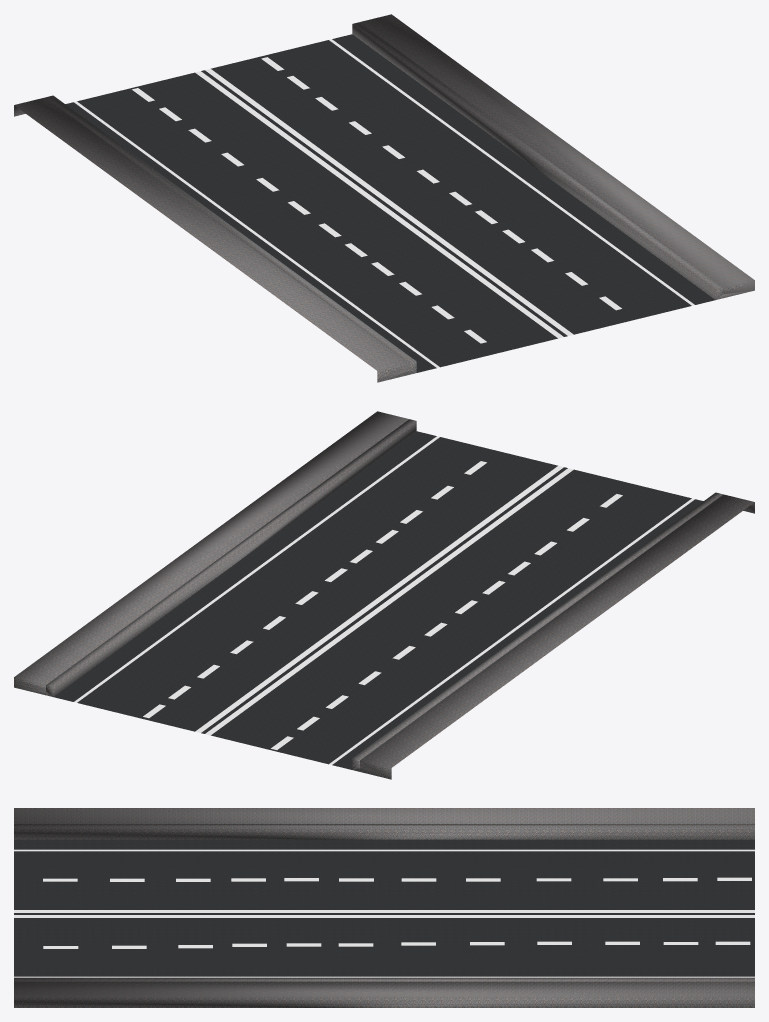
File: road3.dae
3 views of the same model, one above another, from view 1: azimuth 30°, elevation 25°; view 2: azimuth 150°, elevation 25°; view 3: azimuth 270°, elevation 25° (orthographic).
Visible parts, largest first — view 1: Asphalt_New, Concrete_Aggregate_Sm, Color_E02; view 2: Asphalt_New, Concrete_Aggregate_Sm, Color_E02; view 3: Asphalt_New, Concrete_Aggregate_Sm, Color_E02.
Part boxes in pixels (<box>): Asphalt_New: <box>65,34,715,372</box>; Concrete_Aggregate_Sm: <box>14,14,754,382</box>; Color_E02: <box>74,39,694,367</box>; Asphalt_New: <box>53,431,703,769</box>; Concrete_Aggregate_Sm: <box>14,411,754,779</box>; Color_E02: <box>74,436,694,764</box>; Asphalt_New: <box>14,839,754,976</box>; Concrete_Aggregate_Sm: <box>14,808,754,1007</box>; Color_E02: <box>14,849,754,977</box>.
Bounding box in the file's own units: 576 × 960 × 17.
Materials: 3 (3 with a texture image).
